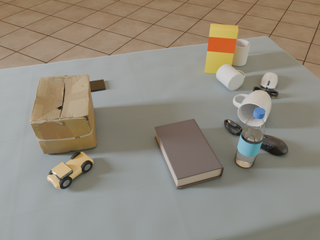book: (155, 119, 224, 189)
bottle: (235, 108, 265, 168)
box: (30, 75, 97, 154), (205, 24, 238, 73)
cup: (233, 90, 271, 123), (216, 64, 245, 90), (232, 39, 250, 66)
mouse: (260, 135, 288, 156), (261, 72, 277, 90)
phone: (90, 80, 105, 91)
toy_car: (47, 152, 93, 189)
